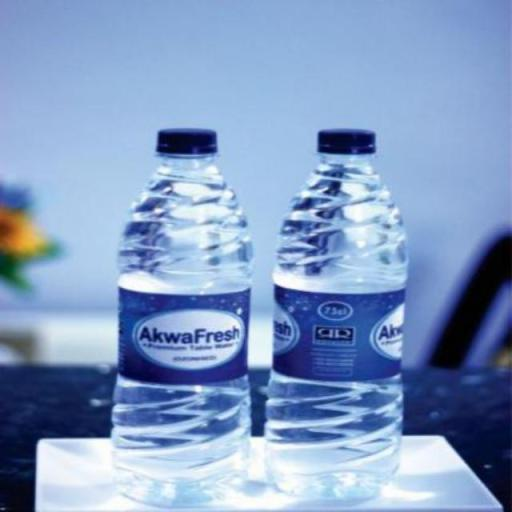Coca: (98, 124, 258, 511), (261, 120, 414, 507)
